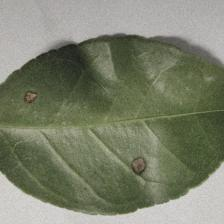canker: (20, 82, 150, 186)
